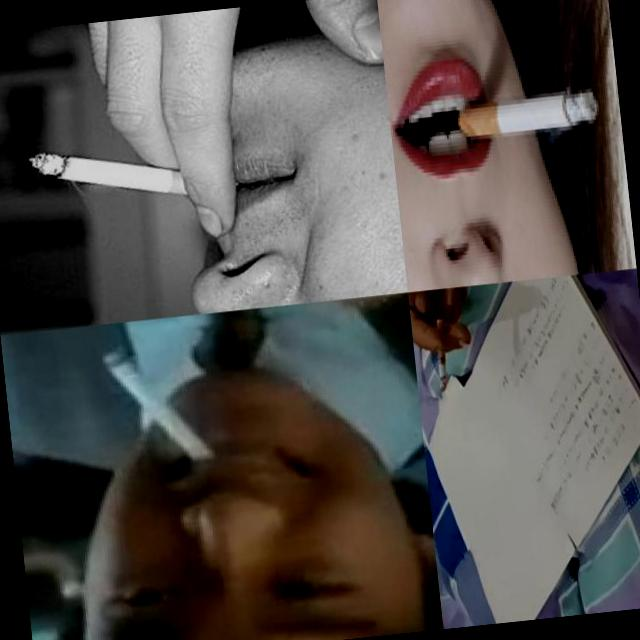cigarette: (27, 132, 236, 218), (98, 334, 221, 473), (454, 87, 600, 141), (432, 317, 450, 392)
